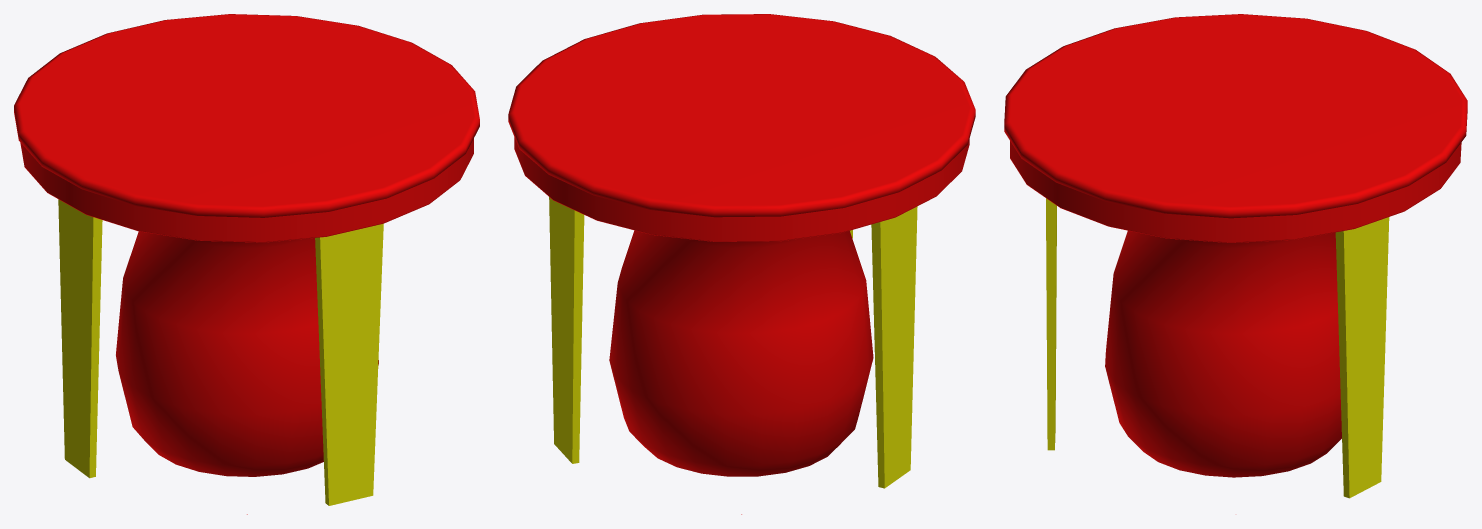
File: tables_grp.fbx
3 renders of one model, left to right at view 1: azimuth 30°, elevation 25°; view 2: azimuth 150°, elevation 25°; view 3: azimuth 270°, elevation 25°, orthographic.
Parts seen in each view (by area): view 1: table_210_1, table_210_2; view 2: table_210_1, table_210_2; view 3: table_210_1, table_210_2.
Boxes of the visible parts, <box> form: table_210_1: <box>14,14,479,514</box>; table_210_2: <box>116,231,378,476</box>; table_210_1: <box>508,14,975,514</box>; table_210_2: <box>609,230,873,476</box>; table_210_1: <box>1004,14,1467,498</box>; table_210_2: <box>1105,230,1341,477</box>.
Bounding box in the file's own units: 52.76 × 50.42 × 52.39.
